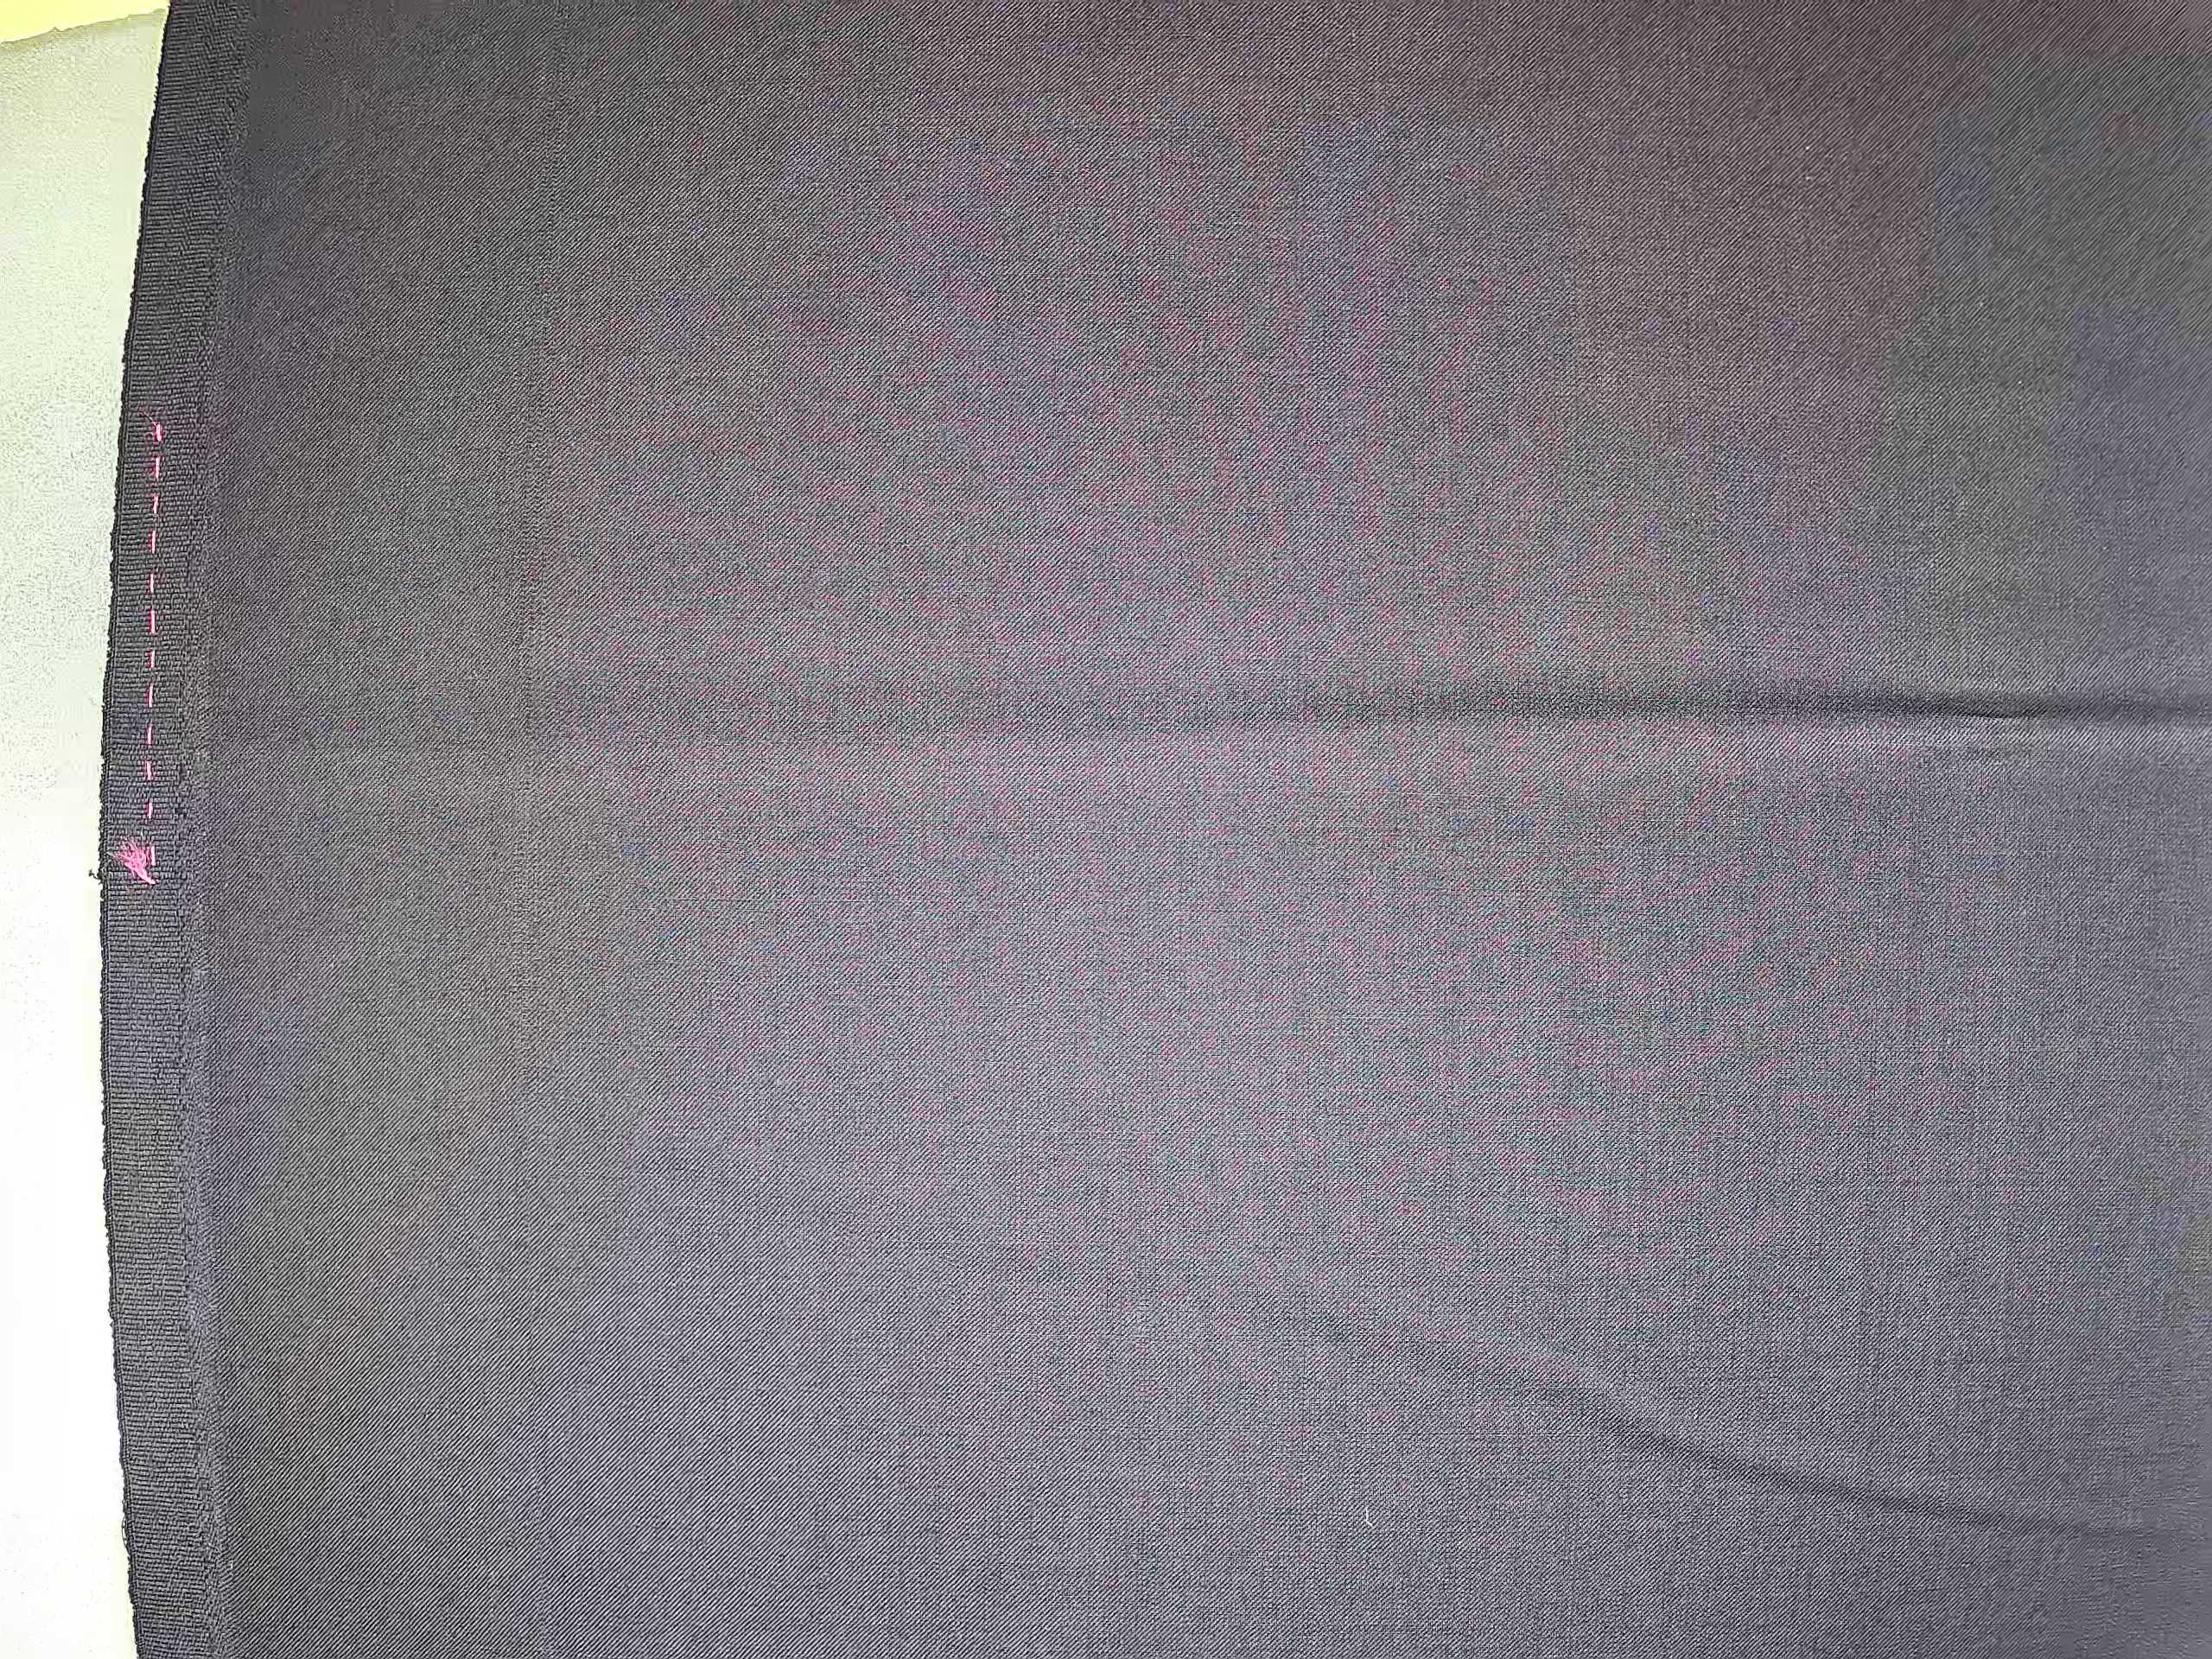lacking-warp: (493, 5, 573, 1126)
